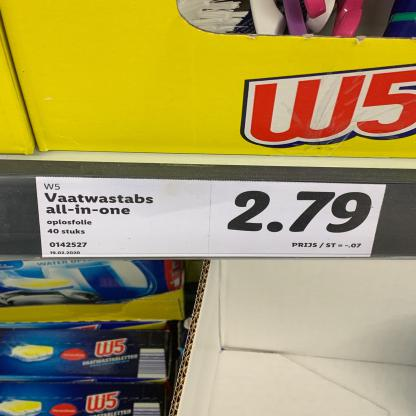prtg: (36, 177, 387, 259)
